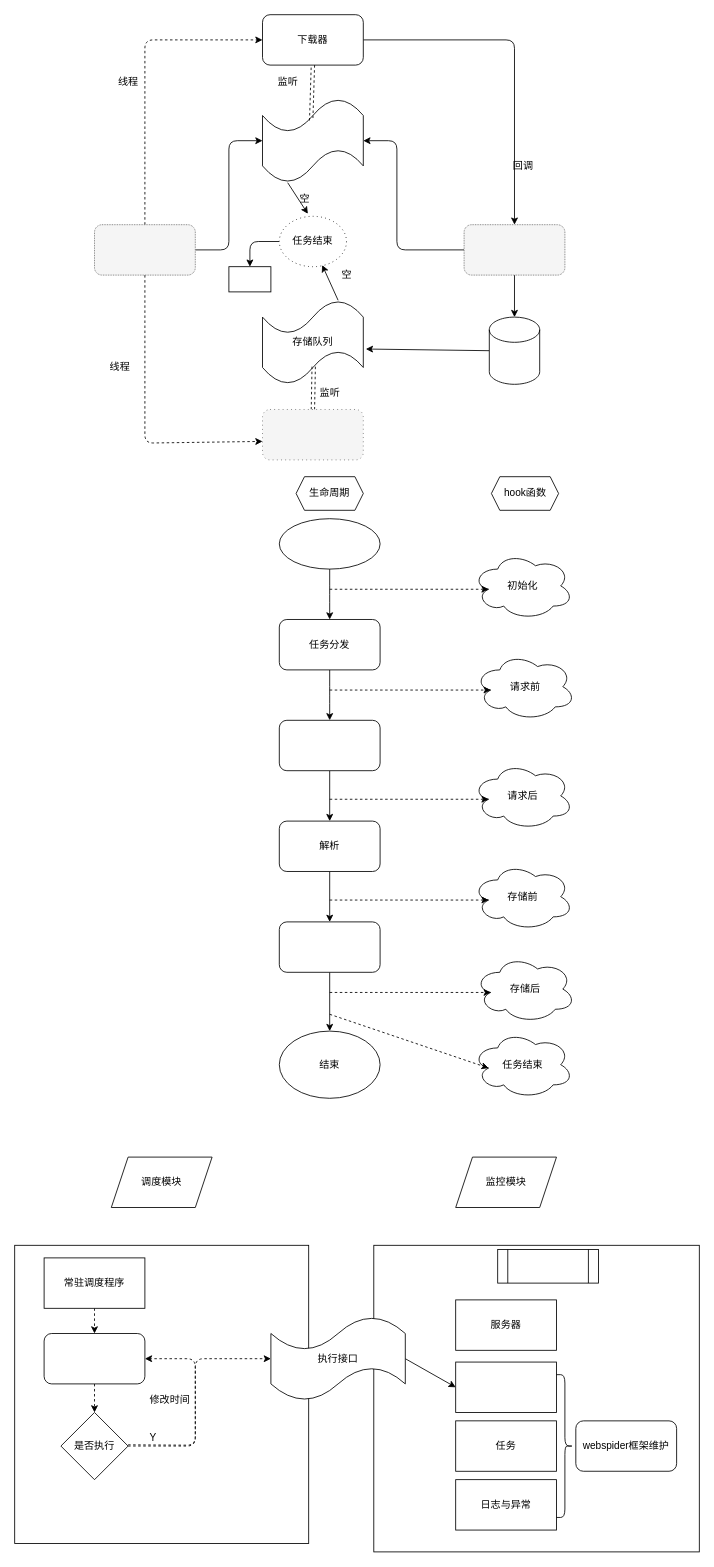
Some shapes in this 714 by 1567 pixel diagram are drawn without their labels. Here are the shapes that lost their labels. From the top down, the centre of each, then its label:
the point at 312,140: 下载队列
the point at 144,249: 启动任务
the point at 514,249: 解析器
the point at 249,279: 消息提醒
the point at 514,350: 数据
the point at 312,434: 存储器
the point at 329,543: 启动
the point at 329,745: 下载
the point at 329,946: 存储
the point at 547,1266: VUE+DJANGO前后端分离项目
the point at 94,1358: REDIS有序集合
the point at 505,1386: 爬虫
